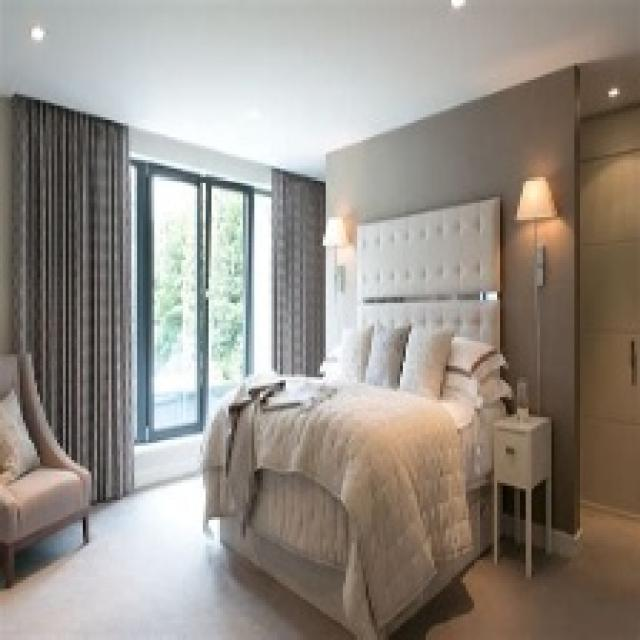Bed: (200, 194, 511, 637)
